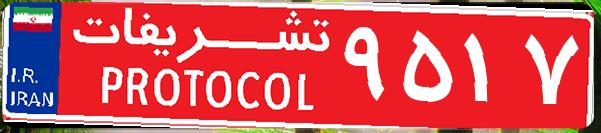1: (460, 20, 520, 115)
5: (400, 20, 460, 115)
7: (520, 20, 580, 115)
9: (340, 20, 400, 115)
تشریفات: (60, 8, 340, 125)
